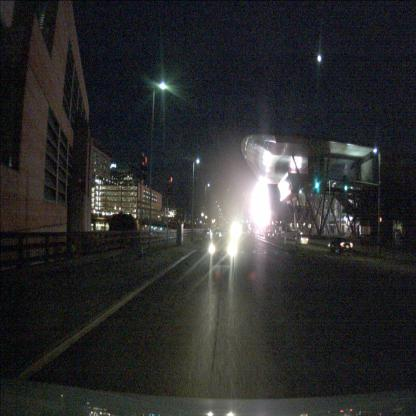vehicle-car: (210, 229, 234, 267), (328, 236, 353, 256), (295, 234, 308, 246), (202, 228, 213, 242), (265, 232, 274, 240)
